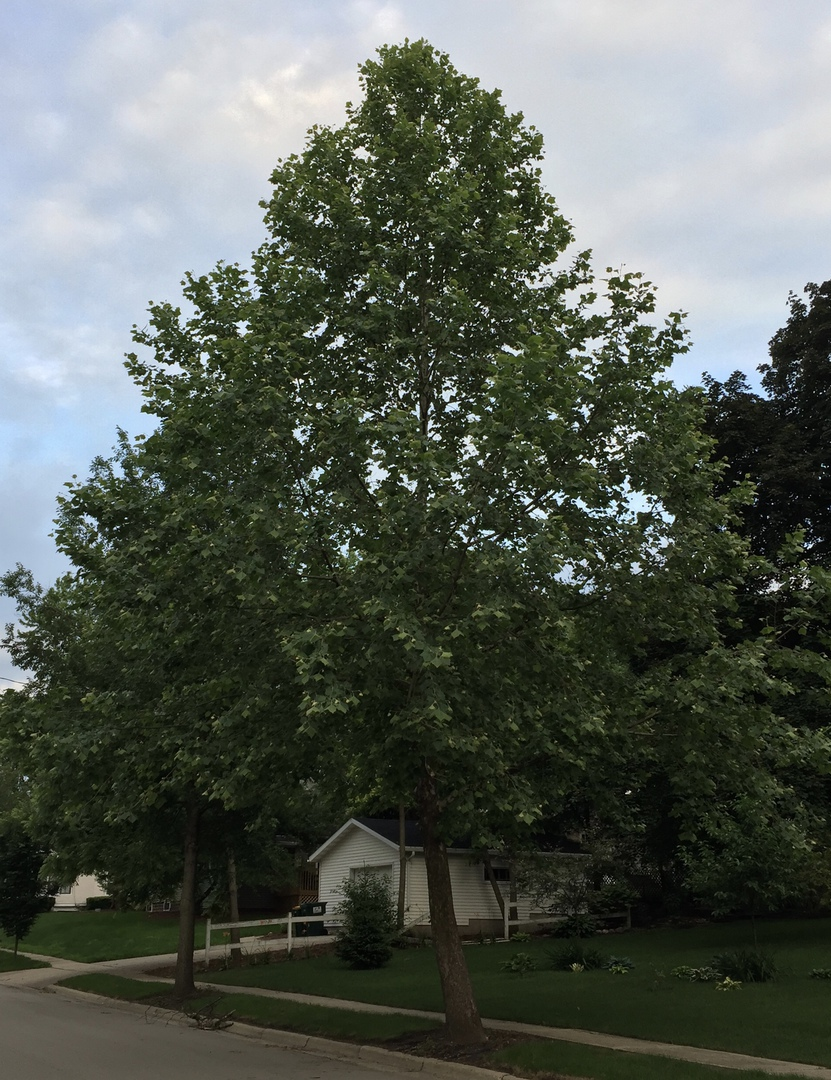tree: (49, 34, 797, 1051), (41, 423, 315, 995)
